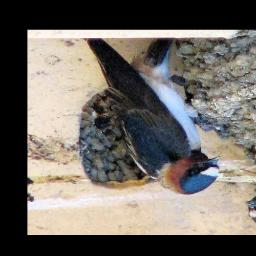Swallow: (77, 40, 220, 196)
